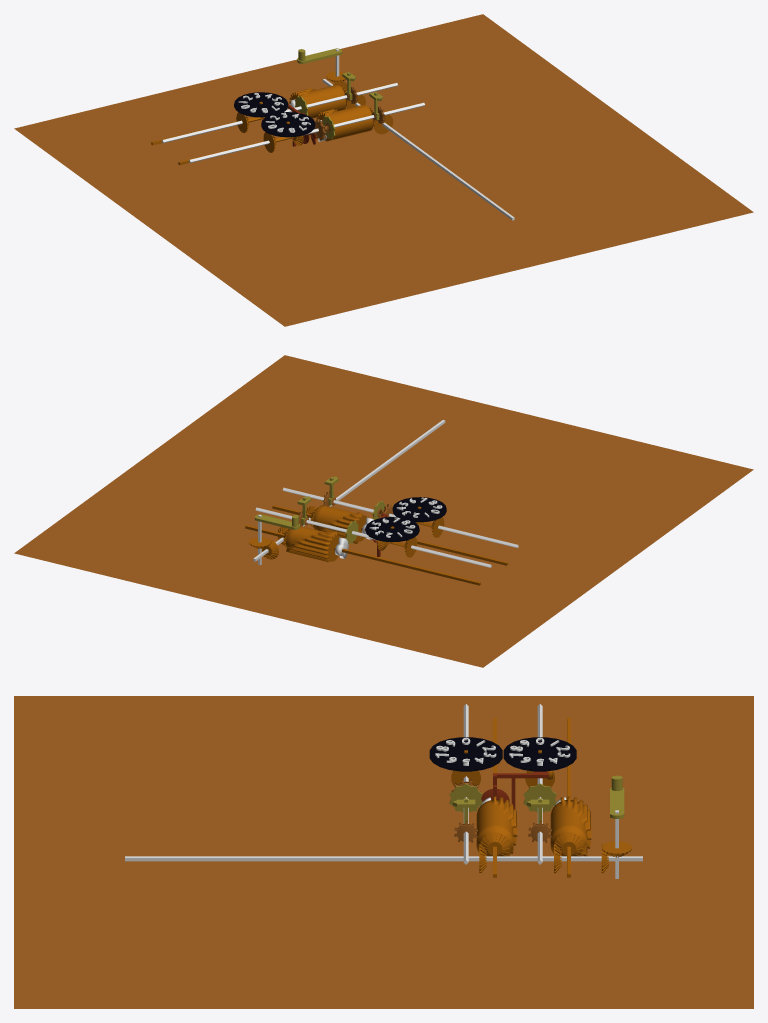
Rendered from Arithmometre.dae.
The picture shows the model from 3 angles, top to bottom: view 1: azimuth 30°, elevation 25°; view 2: azimuth 150°, elevation 25°; view 3: azimuth 270°, elevation 25°; orthographic projection. The views are drawn at different scales.
Visible parts, largest first — view 1: Parquet, Cylindre_2, Cylindre_1, Cadran_2, Cadran_1, Axe_Engrenage_2, Axe_Engrenages_1, Axe_Engrenage_3; view 2: Parquet, Cylindre_1, Cylindre_2, Cadran_1, Cadran_2, Cube_001, Axe_Engrenages_1, Axe_Engrenage_2, Axe_Engrenage_3, Cube_009; view 3: Parquet, Axe_Engrenage_2, Cadran_2, Cadran_1, Cylindre_1, Cylindre_2, Cube_007, Circle_010, Circle_006, Systeme_Retenue, Cone_006, Cone_005.
Boxes of the visible parts, x1,y1,x2,y2 form: Parquet: [14, 14, 753, 326]; Cylindre_2: [316, 104, 373, 141]; Cylindre_1: [289, 85, 346, 118]; Cadran_2: [261, 112, 315, 137]; Cadran_1: [234, 92, 288, 117]; Axe_Engrenage_2: [322, 79, 514, 220]; Axe_Engrenages_1: [162, 83, 397, 143]; Axe_Engrenage_3: [189, 102, 424, 162]; Parquet: [14, 355, 753, 667]; Cylindre_1: [286, 526, 340, 562]; Cylindre_2: [313, 505, 367, 543]; Cadran_1: [365, 517, 419, 542]; Cadran_2: [392, 497, 446, 522]; Cube_001: [245, 525, 481, 585]; Axe_Engrenages_1: [255, 507, 491, 567]; Axe_Engrenage_2: [253, 420, 445, 561]; Axe_Engrenage_3: [282, 487, 518, 547]; Cube_009: [272, 505, 508, 565]; Parquet: [14, 696, 753, 1008]; Axe_Engrenage_2: [125, 856, 642, 861]; Cadran_2: [429, 737, 502, 771]; Cadran_1: [503, 737, 576, 771]; Cylindre_1: [550, 796, 591, 856]; Cylindre_2: [476, 796, 517, 856]; Cube_007: [610, 775, 624, 818]; Circle_010: [449, 783, 482, 812]; Circle_006: [523, 783, 556, 812]; Systeme_Retenue: [493, 771, 548, 809]; Cone_006: [480, 832, 509, 856]; Cone_005: [554, 832, 583, 856].
Size of the model in its own units: 20 by 20 by 2.3.
